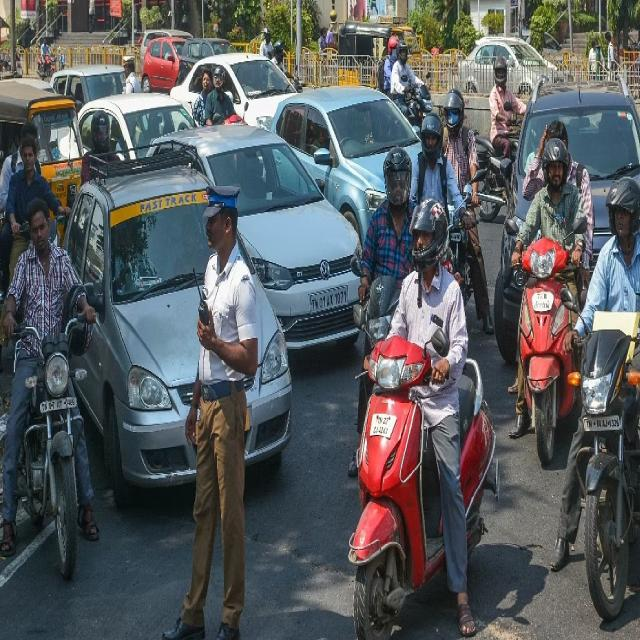autorickshaw: (0, 80, 82, 204)
car: (64, 151, 210, 504), (151, 127, 359, 348), (505, 82, 640, 267), (271, 87, 421, 242), (170, 53, 298, 127), (494, 220, 522, 362), (141, 36, 185, 92)
motorcycle: (349, 198, 499, 639), (550, 178, 640, 620), (0, 198, 99, 578), (511, 140, 585, 464)
